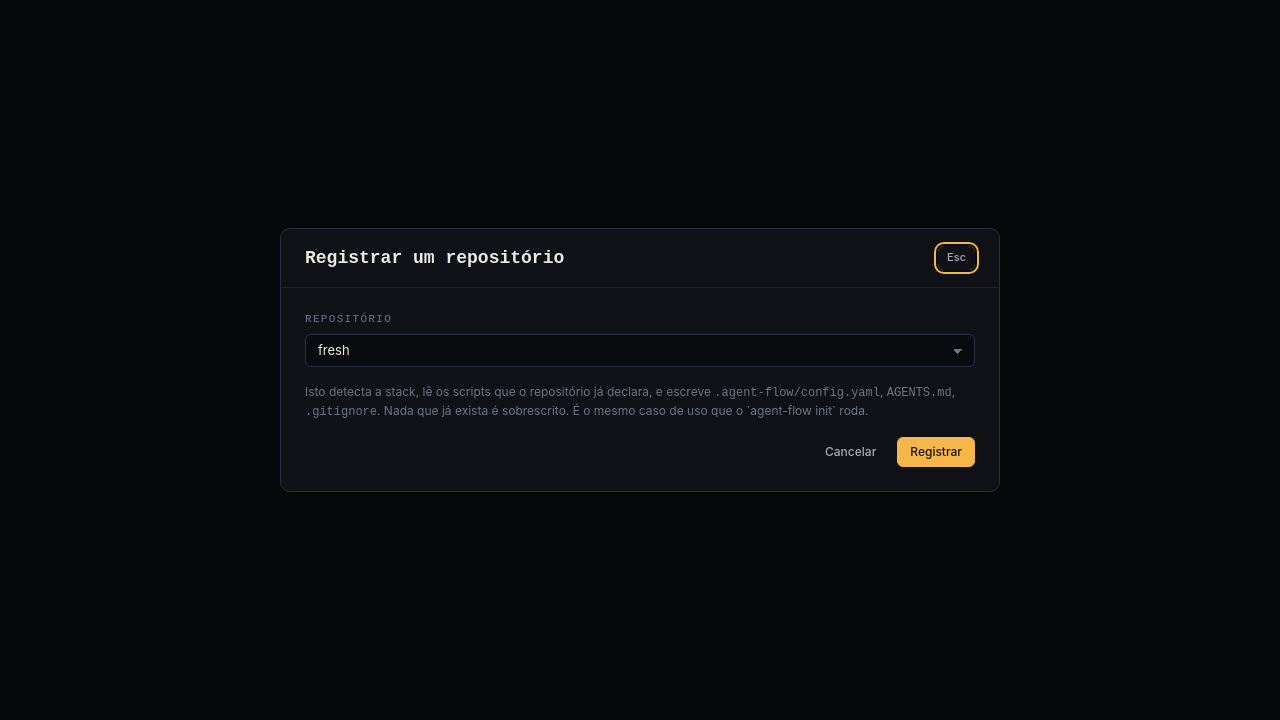
Test: the register-project dialog › carries the warning that would otherwise refuse every task
Click the button "Registrar". click: (936, 452)
box: x1=897 y1=437 x2=975 y2=467
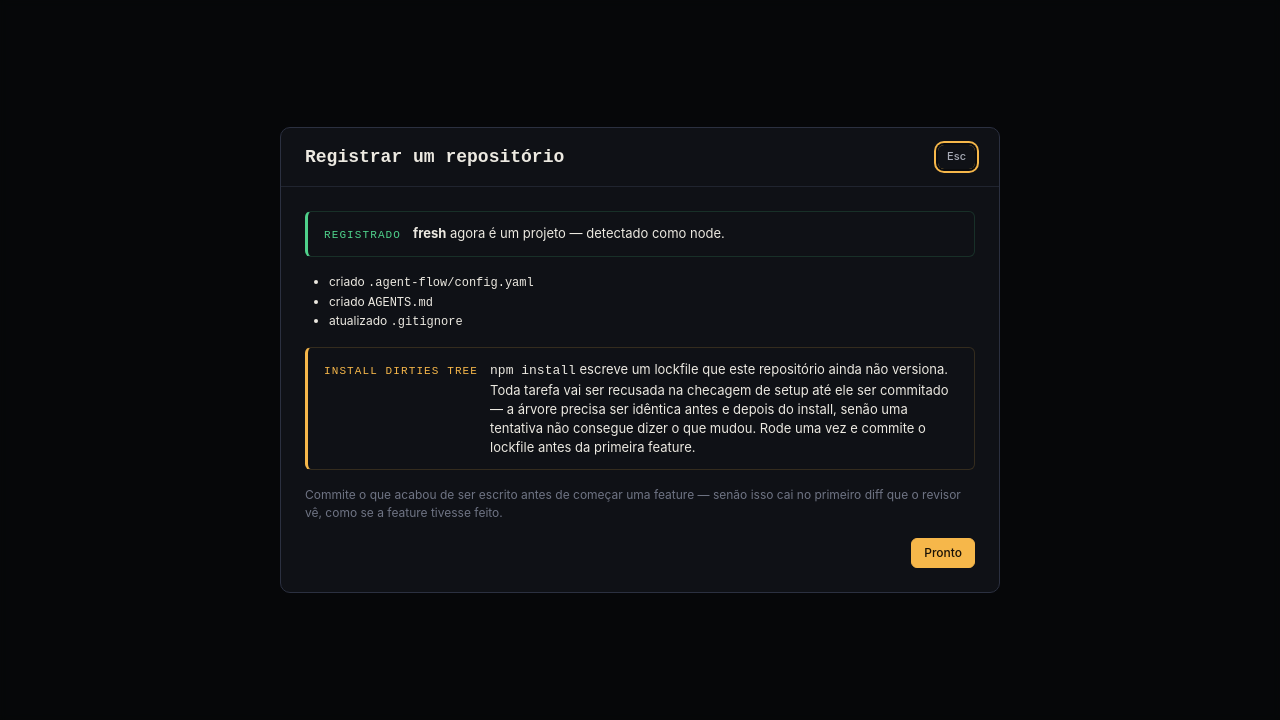
Expected: the text "escreve um lockfile que este repositório ainda não versiona. Toda tarefa vai ser recusada na checagem de setup até ele s" is shown, x1=490 y1=362 x2=948 y2=455
Expected: the text "npm install" is shown, x1=490 y1=364 x2=576 y2=378
